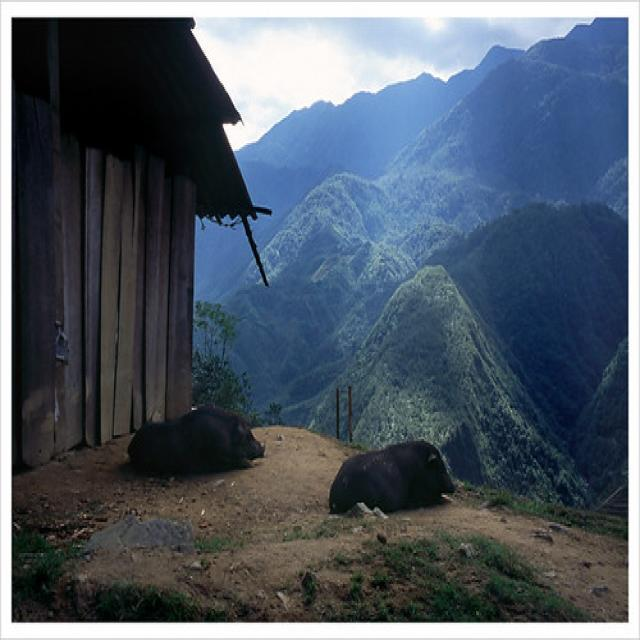boar: (116, 374, 272, 499), (318, 408, 471, 535)
